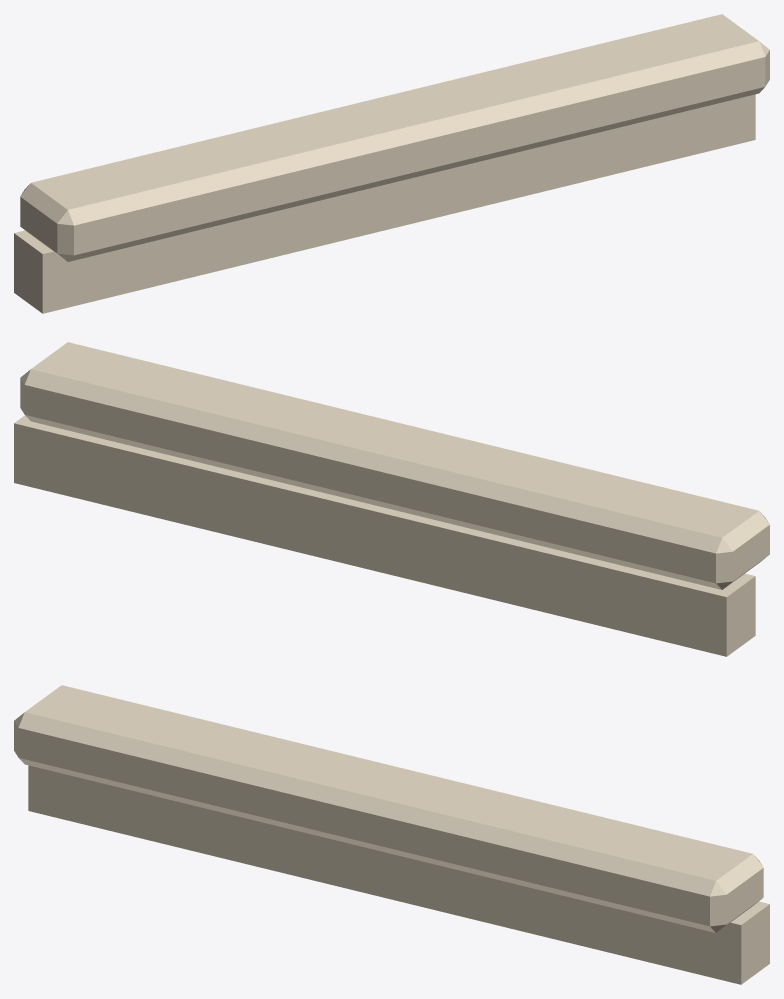
The model's file is kusak_1m.glb.
3 renders of one model, top to bottom at view 1: azimuth 30°, elevation 25°; view 2: azimuth 150°, elevation 25°; view 3: azimuth 330°, elevation 25°, orthographic.
Parts seen in each view (by area): view 1: kusak_1m; view 2: kusak_1m; view 3: kusak_1m.
Boxes of the visible parts, x1,y1,x2,y2 form: kusak_1m: [14, 14, 769, 313]; kusak_1m: [14, 342, 769, 656]; kusak_1m: [14, 685, 769, 984].
Size of the model in its own units: 1 by 0.15 by 0.12.
